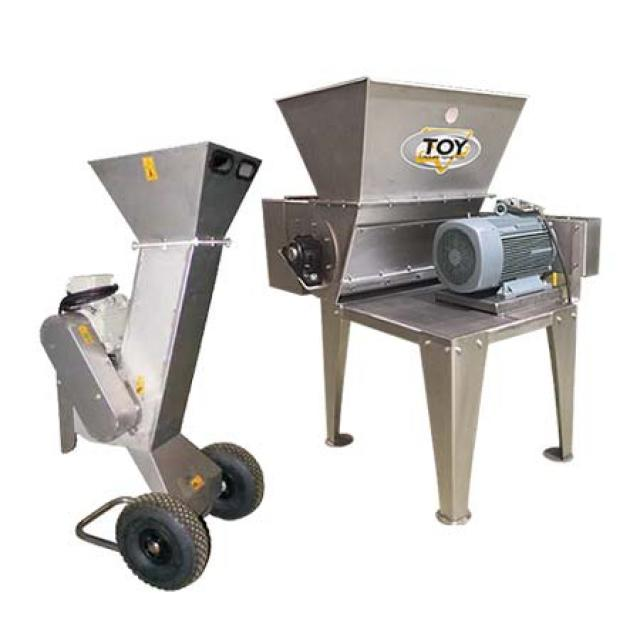Broyeur: (266, 72, 540, 194), (76, 141, 272, 242)
